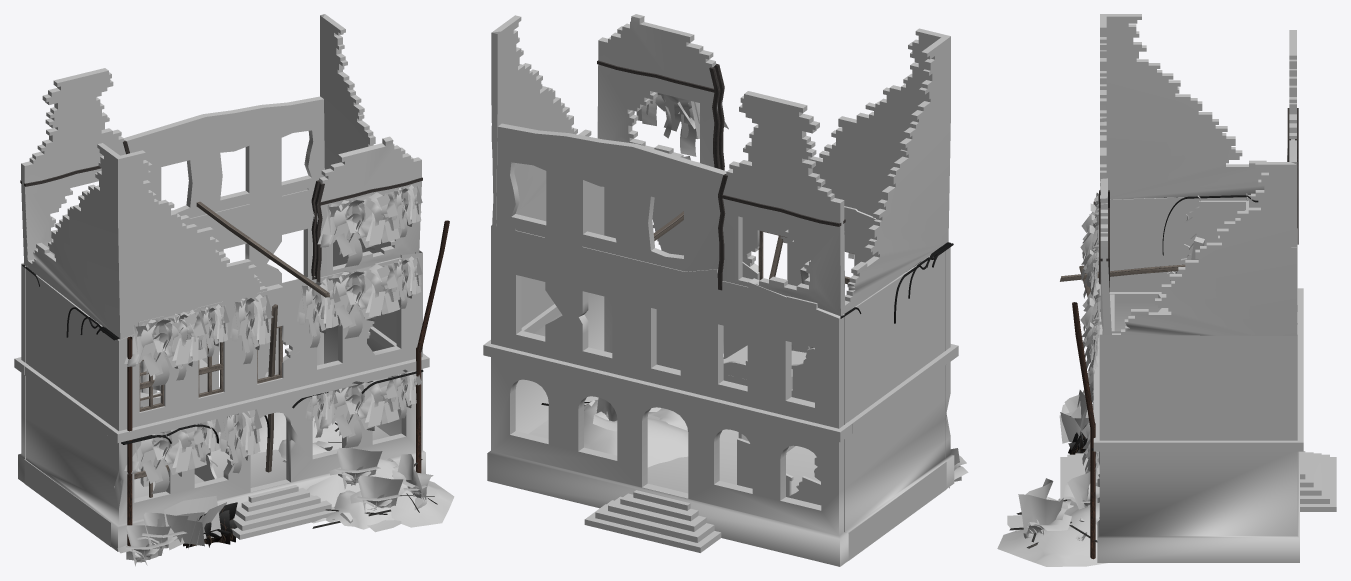
File: house yellow 1_LOD0.fbx
3 renders of one model, left to right at view 1: azimuth 30°, elevation 25°; view 2: azimuth 150°, elevation 25°; view 3: azimuth 270°, elevation 25°, orthographic. The views are drawn at different scales.
Parts seen in each view (by area): view 1: house_yellow_1_LOD0; view 2: house_yellow_1_LOD0; view 3: house_yellow_1_LOD0.
Boxes of the visible parts, x1,y1,x2,y2 form: house_yellow_1_LOD0: (14, 14, 454, 566); house_yellow_1_LOD0: (483, 14, 968, 566); house_yellow_1_LOD0: (997, 14, 1336, 566).
Bounding box in the file's own units: 9.64 × 11.29 × 8.58.
